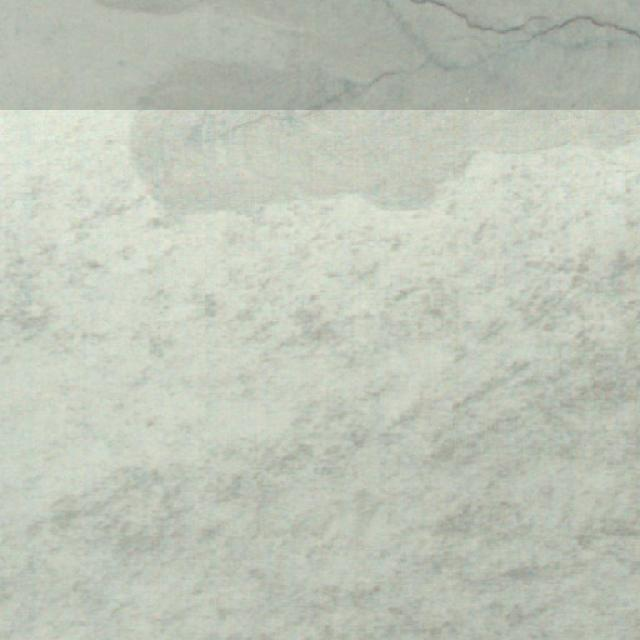Network: (0, 0, 640, 114)
Rippled: (8, 216, 640, 640)
